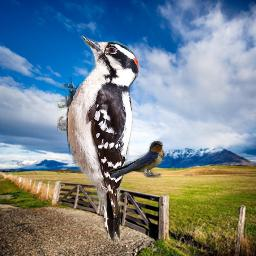Swallow: (99, 140, 166, 178)
Woodpecker: (57, 35, 141, 246)
